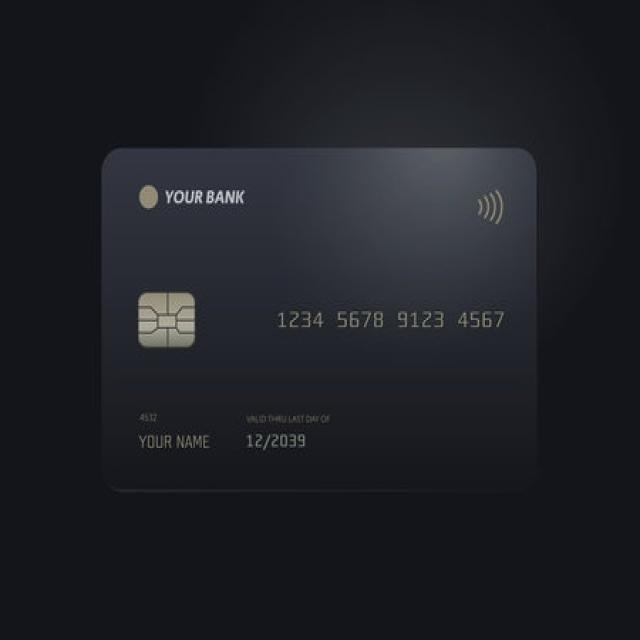payment_card: (99, 145, 540, 495)
